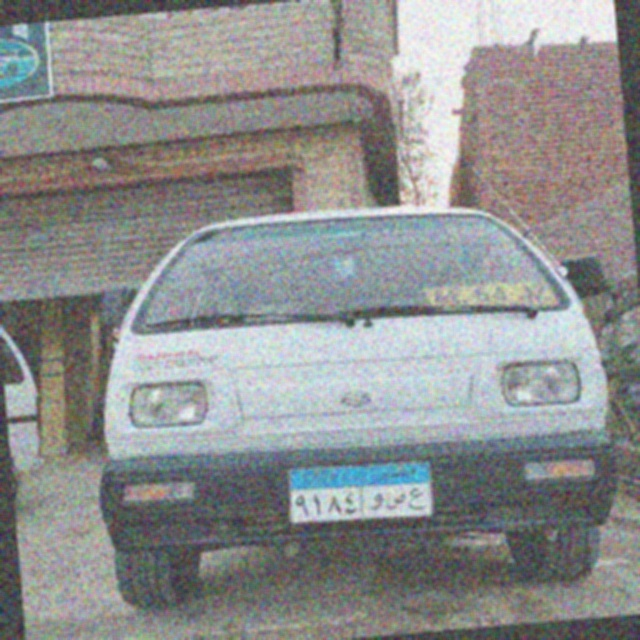License Plate: (283, 456, 438, 530)
